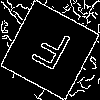F: (24, 25, 74, 80)
